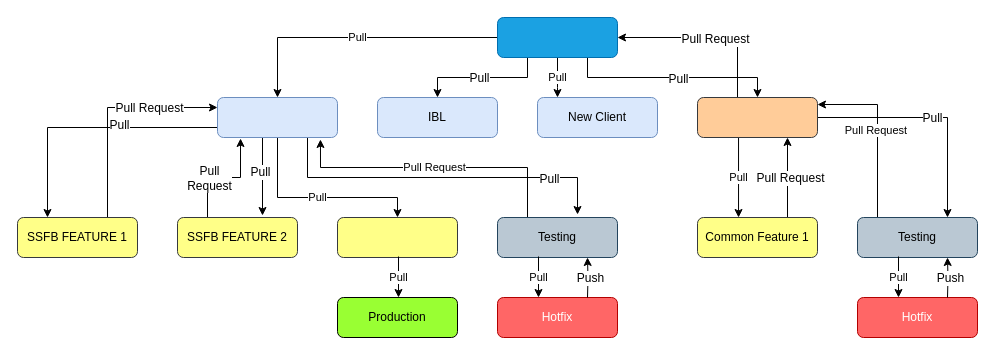
This 995x355 diagram has some shape labels left out. The shapes that lost their labels are listed below. From the top down, each one's centre as x and y in pixels, then its label:
the point at 557,37: Develop
the point at 277,117: SSFB
the point at 757,117: Common
the point at 397,237: UAT
